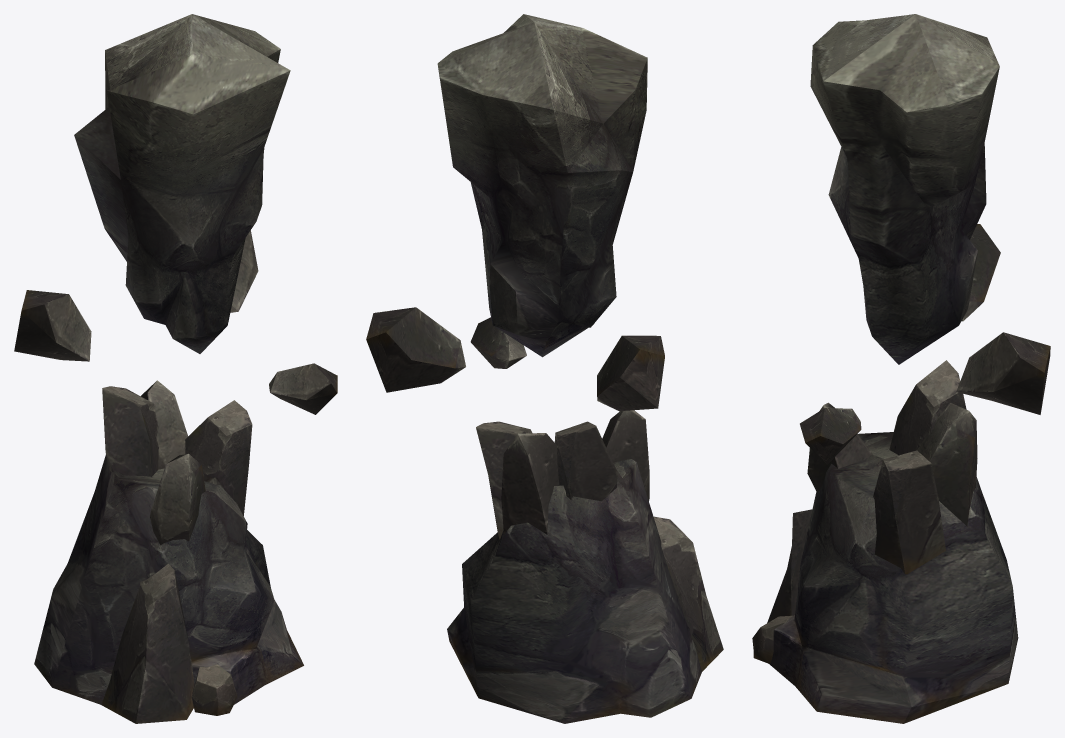
The model's file is common_underground_dongxueshitou05.FBX.
The picture shows the model from 3 angles, left to right: view 1: azimuth 30°, elevation 25°; view 2: azimuth 150°, elevation 25°; view 3: azimuth 270°, elevation 25°; orthographic projection. The views are drawn at different scales.
Visible parts, largest first — view 1: common_underground_dongxueshitou05; view 2: common_underground_dongxueshitou05; view 3: common_underground_dongxueshitou05.
Part boxes in pixels (bbox=[...]): common_underground_dongxueshitou05: bbox=[14, 14, 337, 723]; common_underground_dongxueshitou05: bbox=[366, 14, 723, 723]; common_underground_dongxueshitou05: bbox=[752, 14, 1050, 723].
Bounding box in the file's own units: 6.73 × 15.82 × 6.43.
